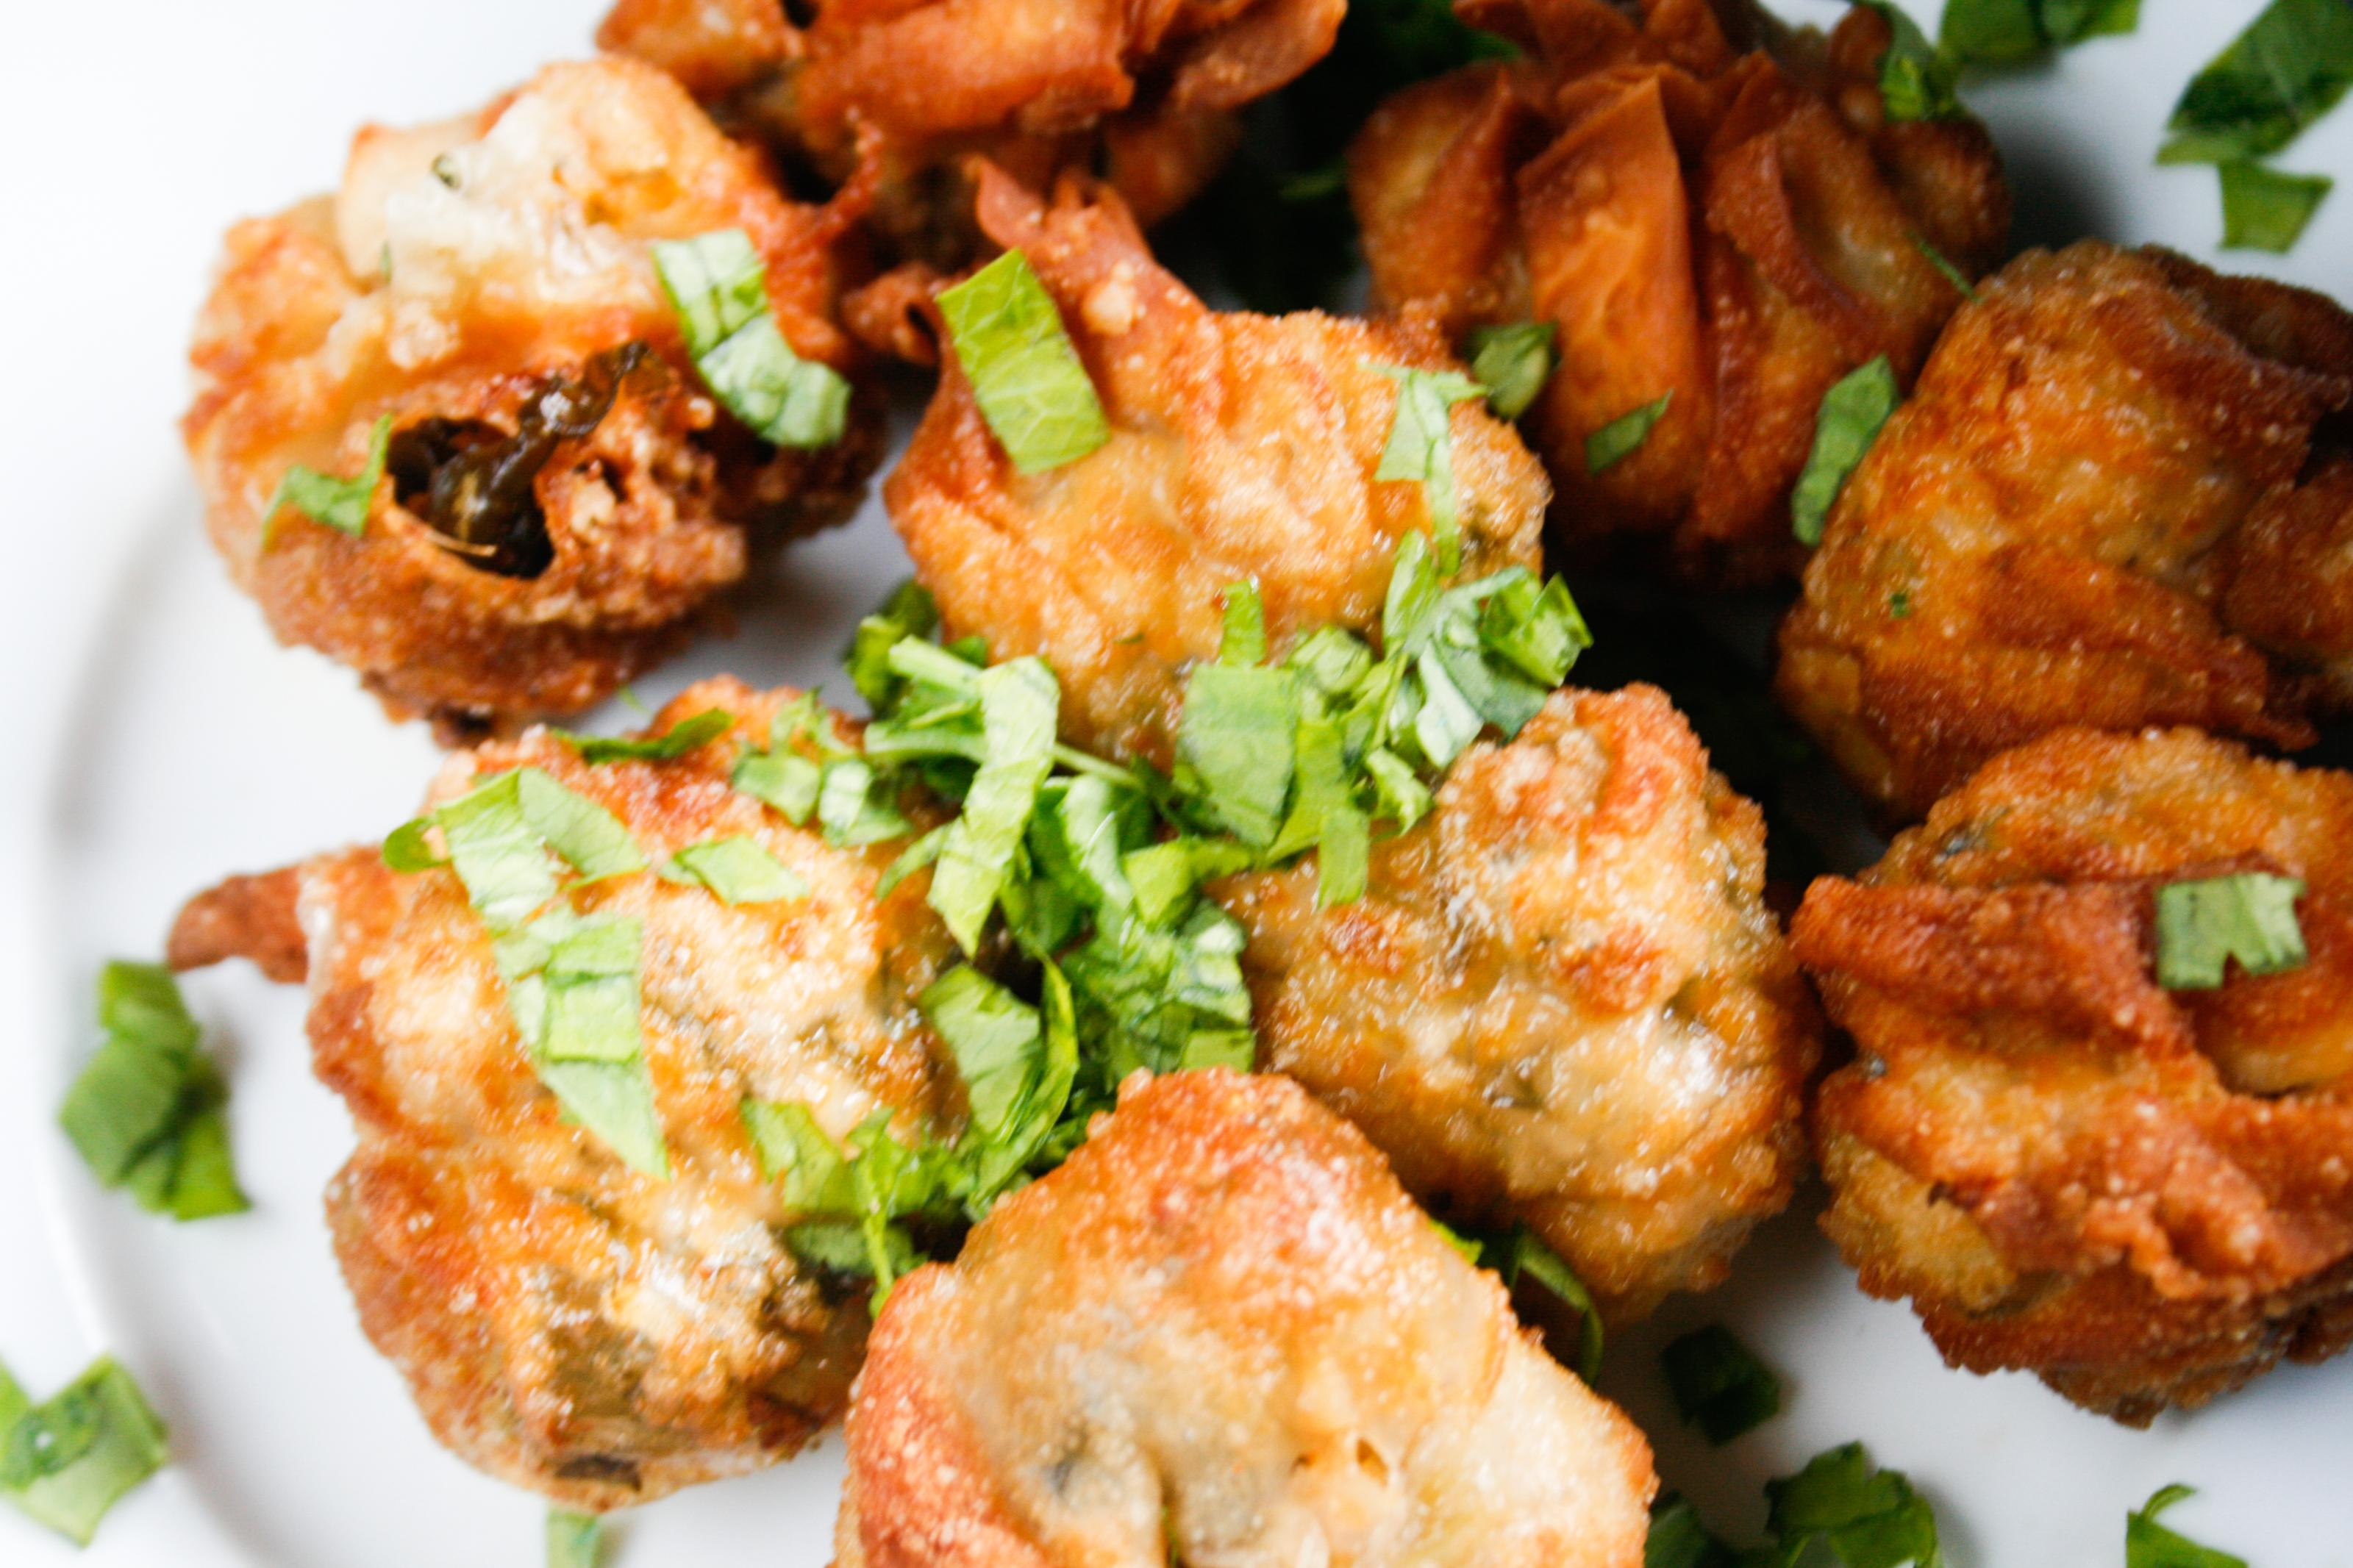momos: (184, 56, 882, 730)
